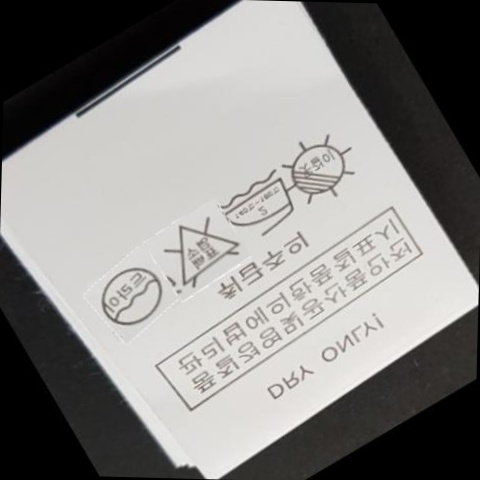dry_clean: (101, 264, 162, 329)
iron_medium: (226, 172, 294, 235)
line_dry_in_shade: (284, 134, 352, 206)
non_chlorine_bleach: (160, 210, 236, 288)
